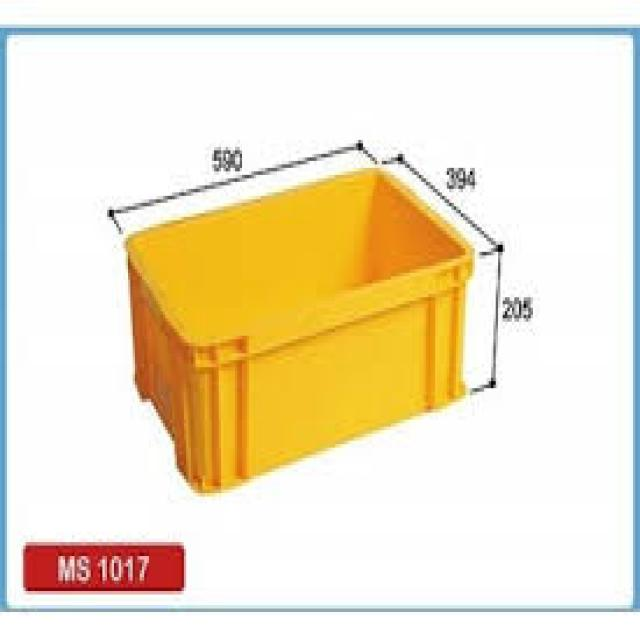basket: (85, 128, 521, 507)
